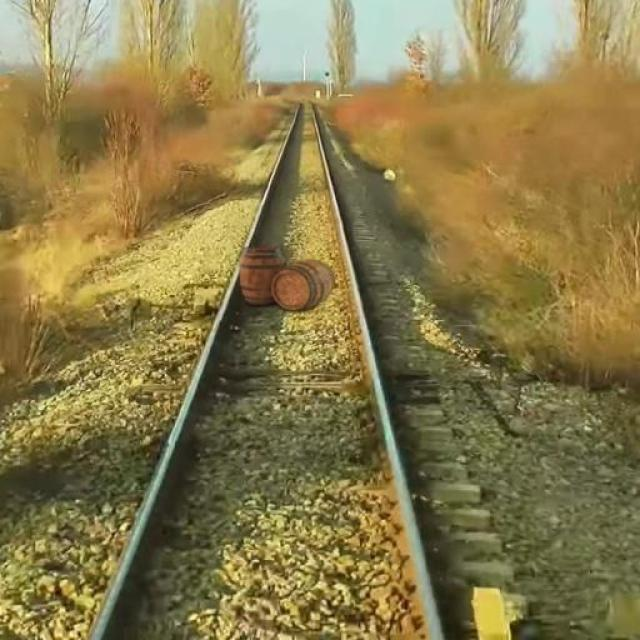Other_objects: (236, 241, 340, 308)
